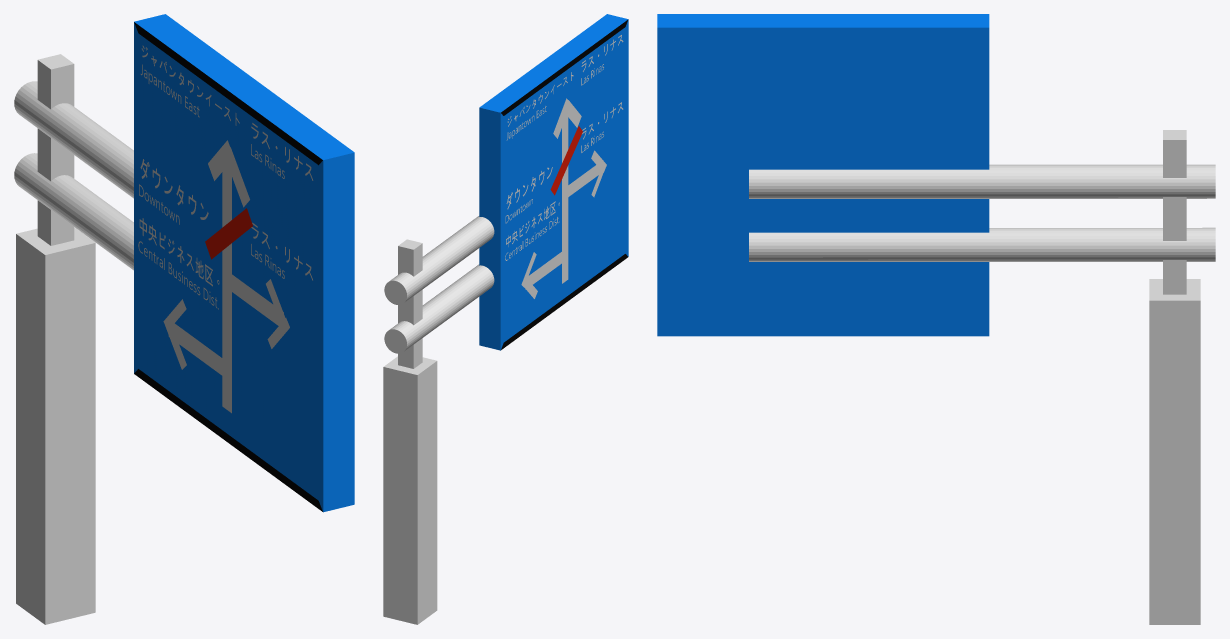
The model's file is japantown_sign_17.fbx.
The picture shows the model from 3 angles, left to right: view 1: azimuth 30°, elevation 25°; view 2: azimuth 150°, elevation 25°; view 3: azimuth 270°, elevation 25°; orthographic projection. The views are drawn at different scales.
Visible parts, largest first — view 1: Cube.003, Cube, Cylinder, Cylinder.001, Plane, Plane.009, Plane.001, Plane.008, Text.007, Plane.005; view 2: Cube.003, Cube, Cylinder.001, Cylinder, Plane, Plane.009, Plane.001, Plane.008; view 3: Cube.003, Cube, Cylinder, Cylinder.001.
Part boxes in pixels (x1,y1,x2,y2): Cube.003: [134, 14, 354, 512]; Cube: [16, 54, 95, 624]; Cylinder: [14, 81, 133, 198]; Cylinder.001: [14, 153, 133, 270]; Plane: [222, 165, 231, 413]; Plane.009: [205, 208, 252, 259]; Plane.001: [168, 320, 222, 375]; Plane.008: [232, 274, 283, 328]; Text.007: [139, 218, 219, 286]; Plane.005: [208, 140, 233, 180]; Cube.003: [479, 14, 628, 350]; Cube: [383, 239, 437, 624]; Cylinder.001: [384, 264, 494, 353]; Cylinder: [384, 216, 494, 304]; Plane: [562, 115, 568, 283]; Plane.009: [550, 126, 582, 195]; Plane.001: [525, 252, 561, 289]; Plane.008: [568, 165, 602, 196]; Cube.003: [657, 14, 989, 336]; Cube: [1149, 130, 1200, 624]; Cylinder: [749, 164, 1215, 198]; Cylinder.001: [749, 227, 1215, 261].
Bounding box in the file's own units: 6.54 × 76.11 × 65.5.
